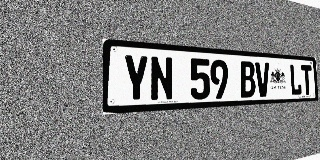5: (190, 58, 210, 100)
9: (210, 59, 229, 99)
B: (239, 61, 256, 98)
L: (289, 64, 302, 95)
N: (150, 56, 174, 102)
T: (301, 65, 313, 95)
V: (255, 62, 270, 97)
Y: (122, 54, 149, 103)
